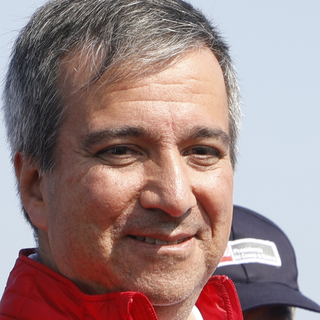eye: (177, 134, 228, 167), (94, 140, 143, 166)
